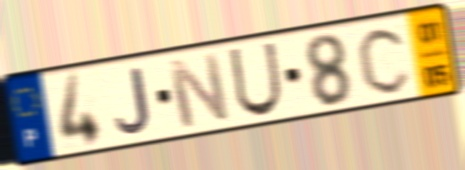4: (57, 69, 104, 151)
8: (301, 31, 354, 109)
C: (355, 24, 414, 97)
J: (112, 65, 154, 137)
N: (164, 51, 234, 131)
U: (226, 40, 285, 120)
